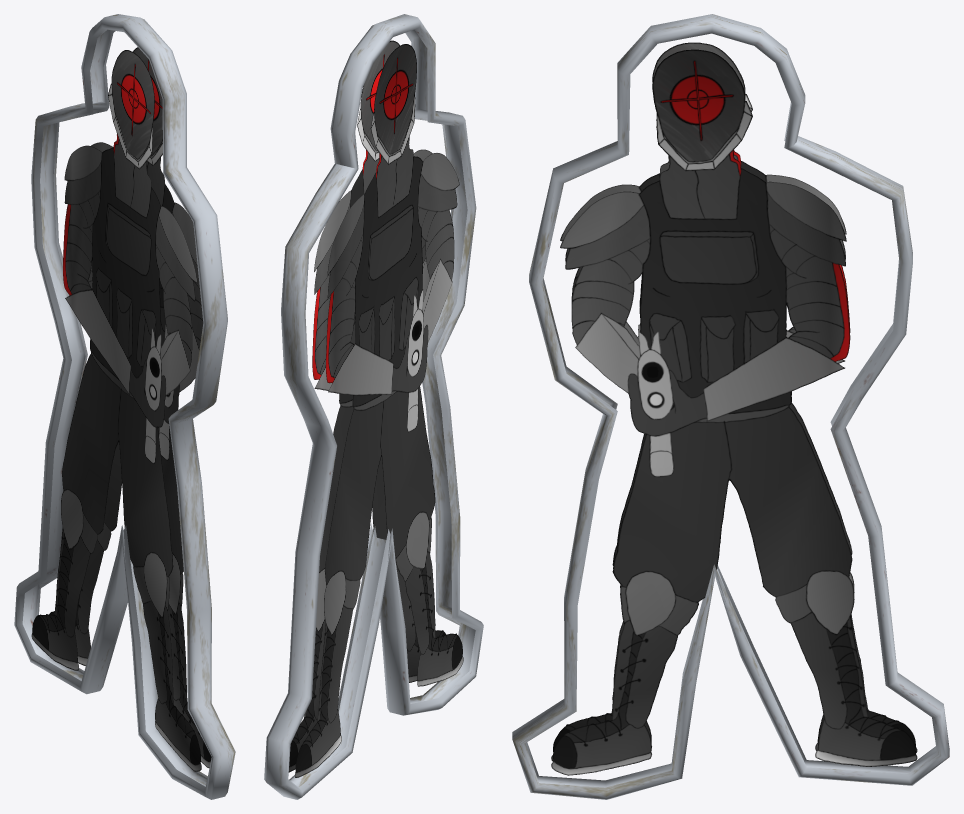
File: Target.fbx
3 views of the same model, side by side, from view 1: azimuth 30°, elevation 25°; view 2: azimuth 150°, elevation 25°; view 3: azimuth 270°, elevation 25° (orthographic). The views are drawn at different scales.
Visible parts, largest first — view 1: Target; view 2: Target; view 3: Target.
Boxes of the visible parts, x1,y1,x2,y2 form: Target: (14,14,235,799); Target: (264,14,483,799); Target: (512,14,949,799).
Bounding box in the file's own units: 7.94 × 254 × 129.
